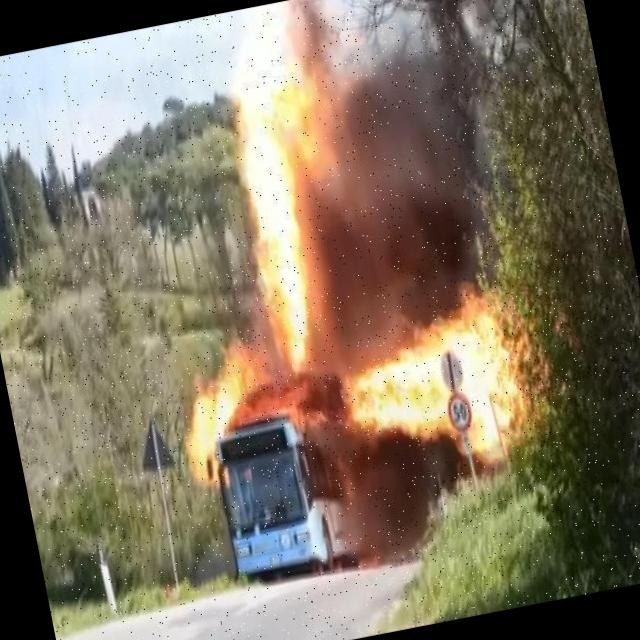Fire: (205, 43, 340, 377), (323, 302, 542, 484), (166, 361, 266, 482)
Smoke: (296, 7, 556, 327), (328, 421, 497, 584)
